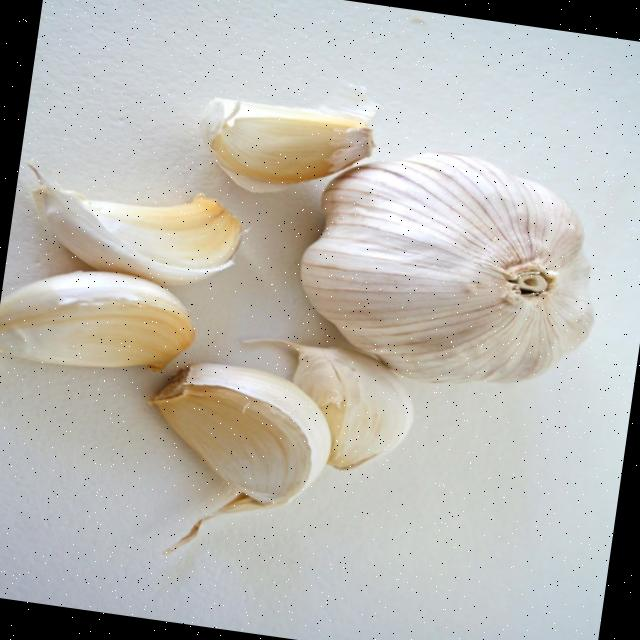garlic: (301, 152, 593, 382), (152, 363, 331, 554), (31, 165, 242, 285), (244, 338, 413, 470), (0, 271, 194, 370), (202, 85, 378, 192)
